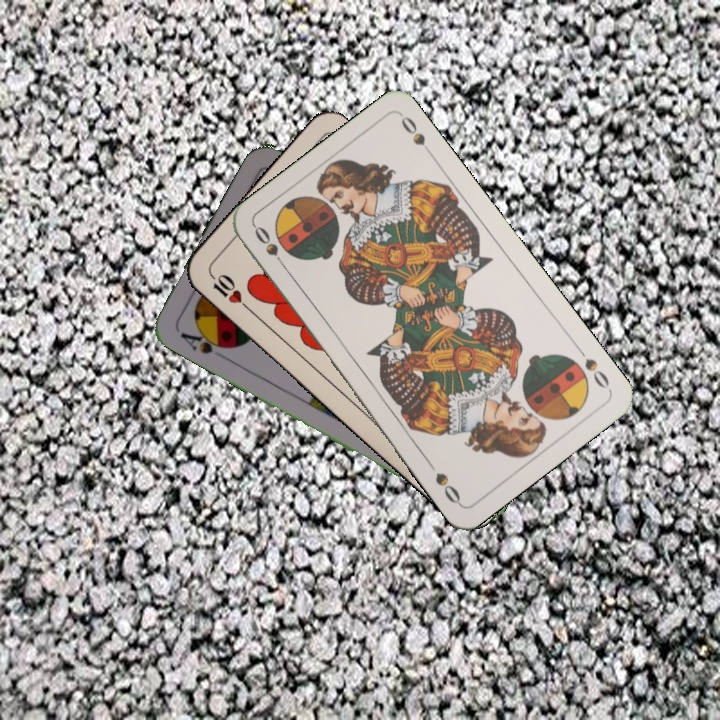H10: (206, 269, 254, 314)
SA: (176, 324, 233, 357)
SO: (250, 221, 291, 274), (573, 342, 614, 393)
